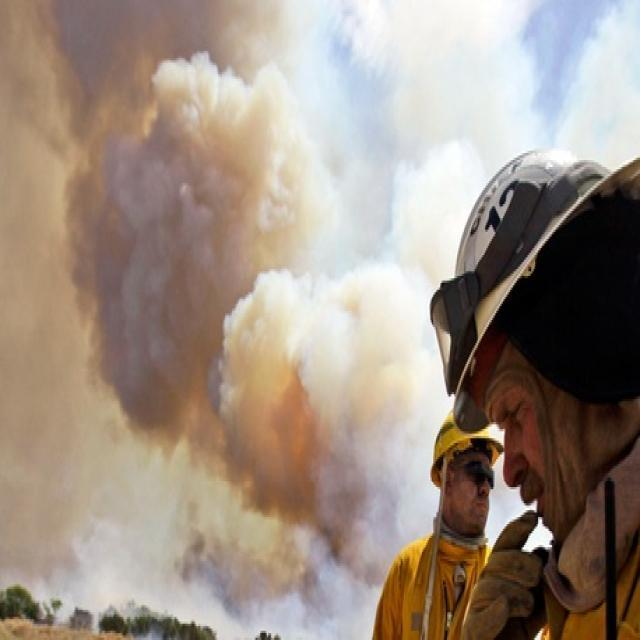Smoke: (87, 45, 400, 518)
